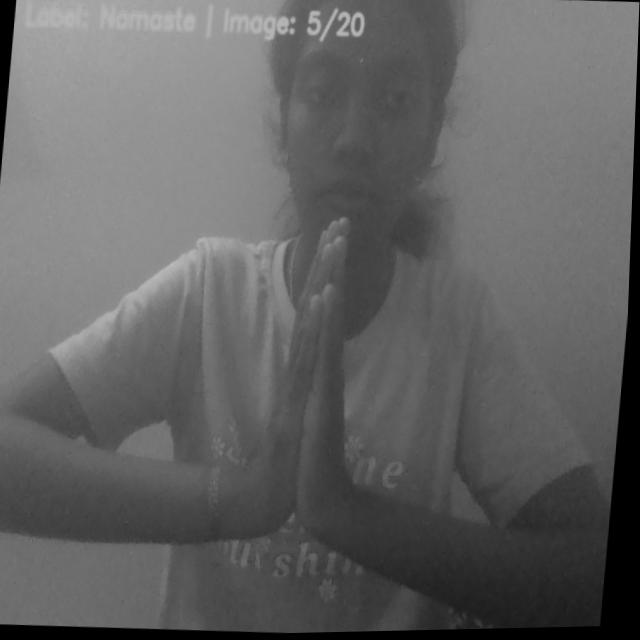Namaste: (250, 211, 376, 553)
